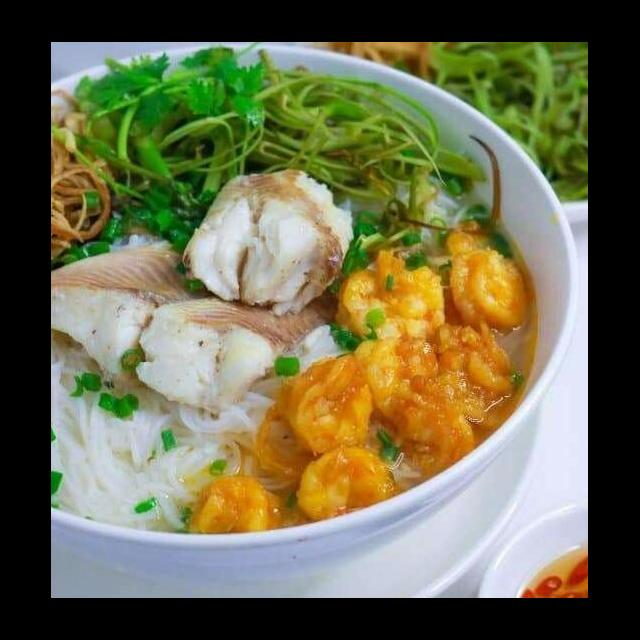bun: (52, 378, 280, 534)
bun ca: (56, 87, 556, 586)
ca: (180, 160, 362, 321), (132, 287, 340, 418), (53, 238, 188, 381)
tom: (328, 245, 452, 354), (426, 316, 530, 437), (438, 225, 538, 341), (384, 366, 482, 482), (276, 350, 378, 461), (346, 323, 444, 426), (288, 445, 406, 530), (180, 469, 300, 544)
